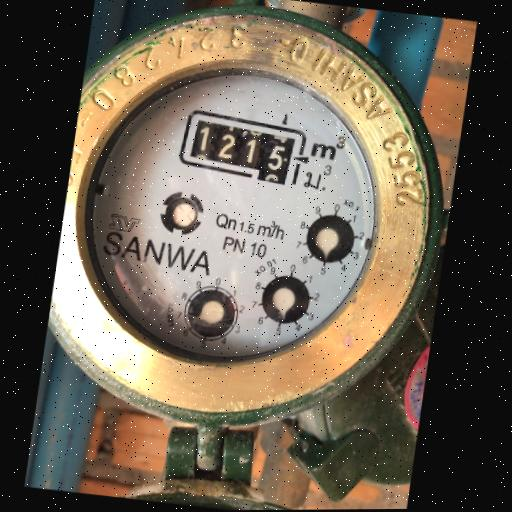1: (192, 119, 217, 160), (239, 129, 263, 170)
2: (213, 124, 241, 165)
5: (261, 134, 291, 184)
border_water_meter_number: (176, 107, 316, 190)
